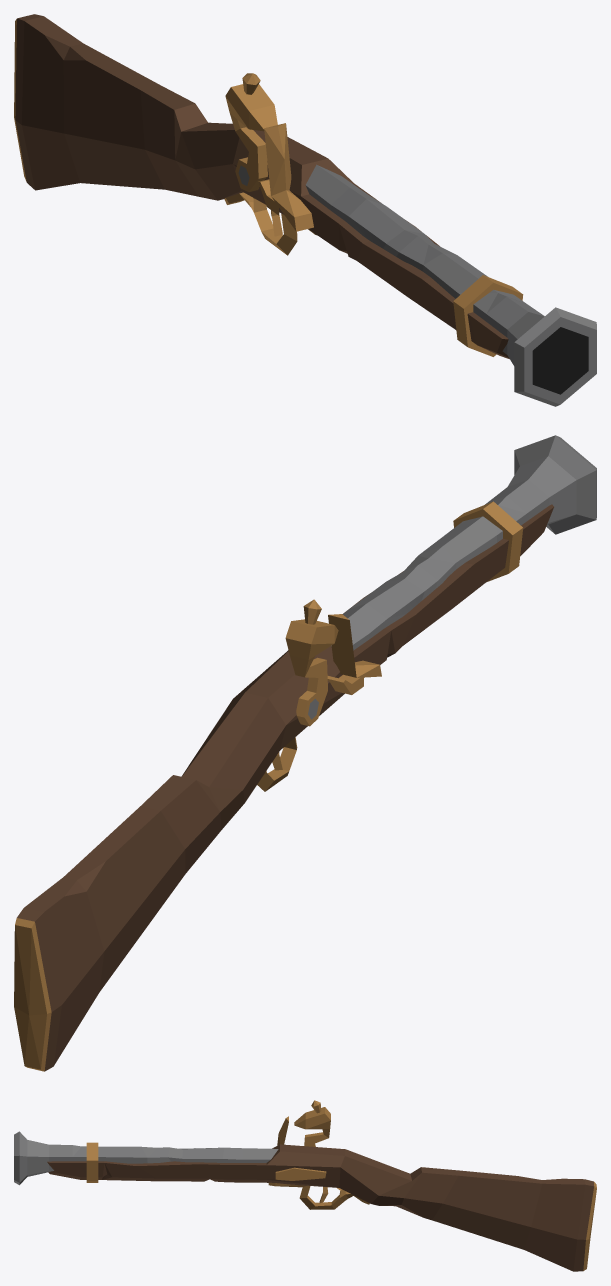
File: SM_Wep_BlunderBuss_01.glb
3 renders of one model, top to bottom at view 1: azimuth 30°, elevation 25°; view 2: azimuth 150°, elevation 25°; view 3: azimuth 270°, elevation 25°, orthographic. The views are drawn at different scales.
Visible parts, largest first — view 1: SM_Wep_BlunderBuss_01; view 2: SM_Wep_BlunderBuss_01; view 3: SM_Wep_BlunderBuss_01.
Boxes of the visible parts, x1,y1,x2,y2 form: SM_Wep_BlunderBuss_01: (14,14,596,406); SM_Wep_BlunderBuss_01: (14,435,596,1071); SM_Wep_BlunderBuss_01: (14,1100,596,1271).
Size of the model in its own units: 0.000958 by 0.00324 by 0.0106.
